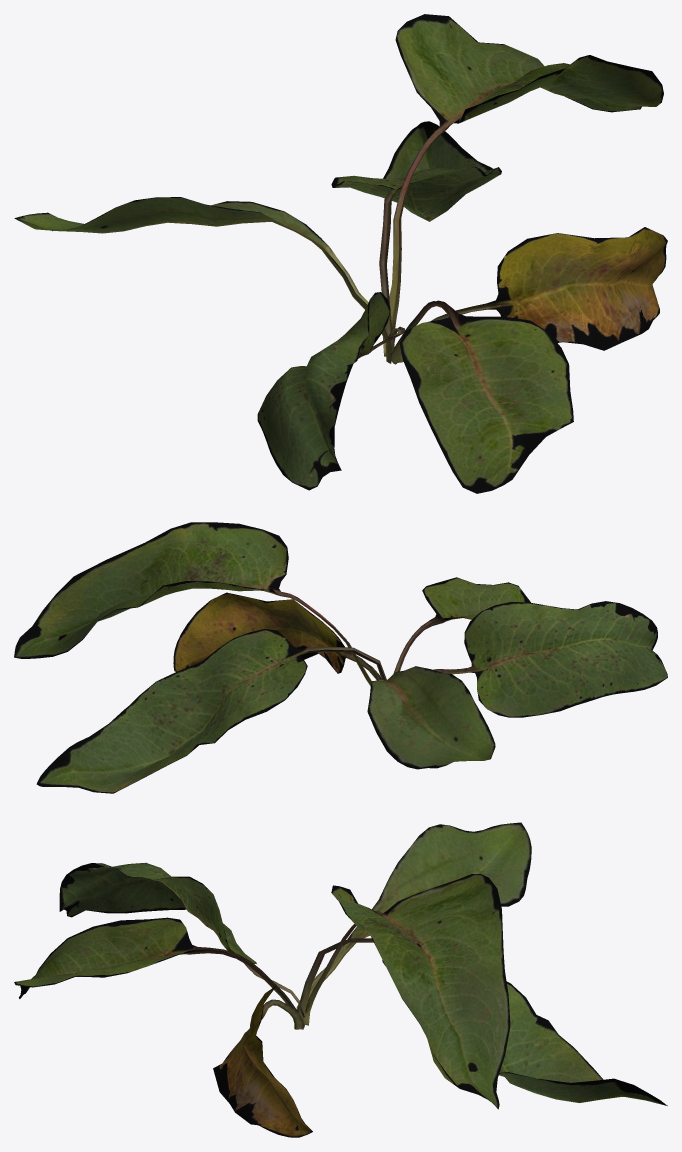
Rendered from weed_plant_02_b.gltf.
3 views of the same model, one above another, from view 1: azimuth 30°, elevation 25°; view 2: azimuth 150°, elevation 25°; view 3: azimuth 270°, elevation 25° (orthographic). The views are drawn at different scales.
Visible parts, largest first — view 1: weed_plant_02_b_LOD0; view 2: weed_plant_02_b_LOD0; view 3: weed_plant_02_b_LOD0.
Boxes of the visible parts, left/top/right/bottom form: weed_plant_02_b_LOD0: left=14, top=14, right=667, bottom=493; weed_plant_02_b_LOD0: left=14, top=522, right=667, bottom=793; weed_plant_02_b_LOD0: left=14, top=822, right=667, bottom=1137.
Size of the model in its own units: 0.1875 by 0.0677 by 0.1985.
1 material, 1 textured.
